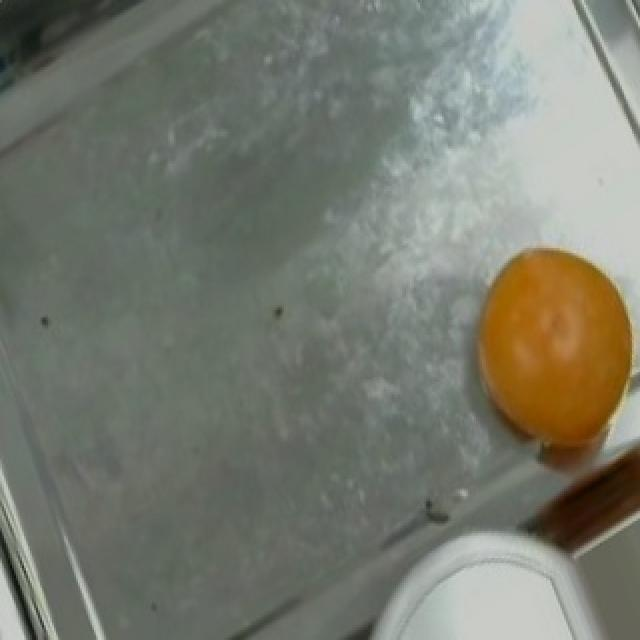Fruit: (454, 226, 640, 474), (362, 550, 602, 640), (590, 0, 640, 186)
